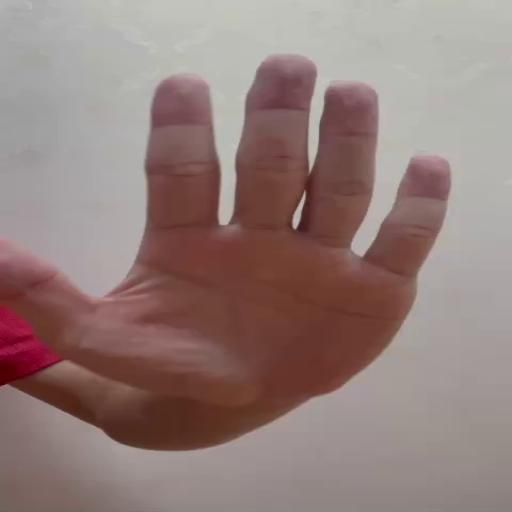open_palm: (0, 52, 454, 398)
